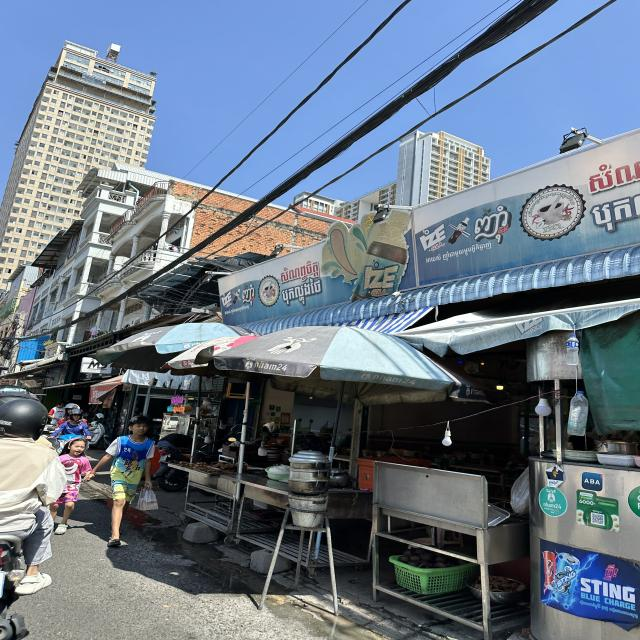Yolov11kh: (459, 200, 517, 242), (271, 253, 326, 287), (273, 277, 328, 308)
